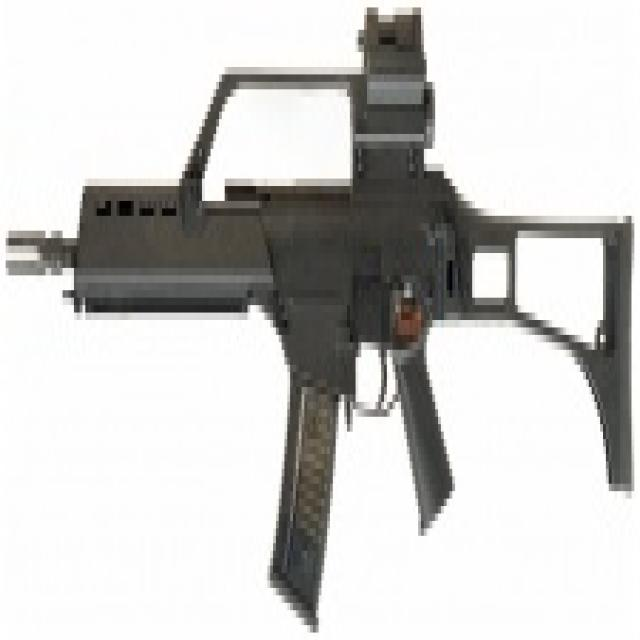rifle: (2, 1, 640, 635)
